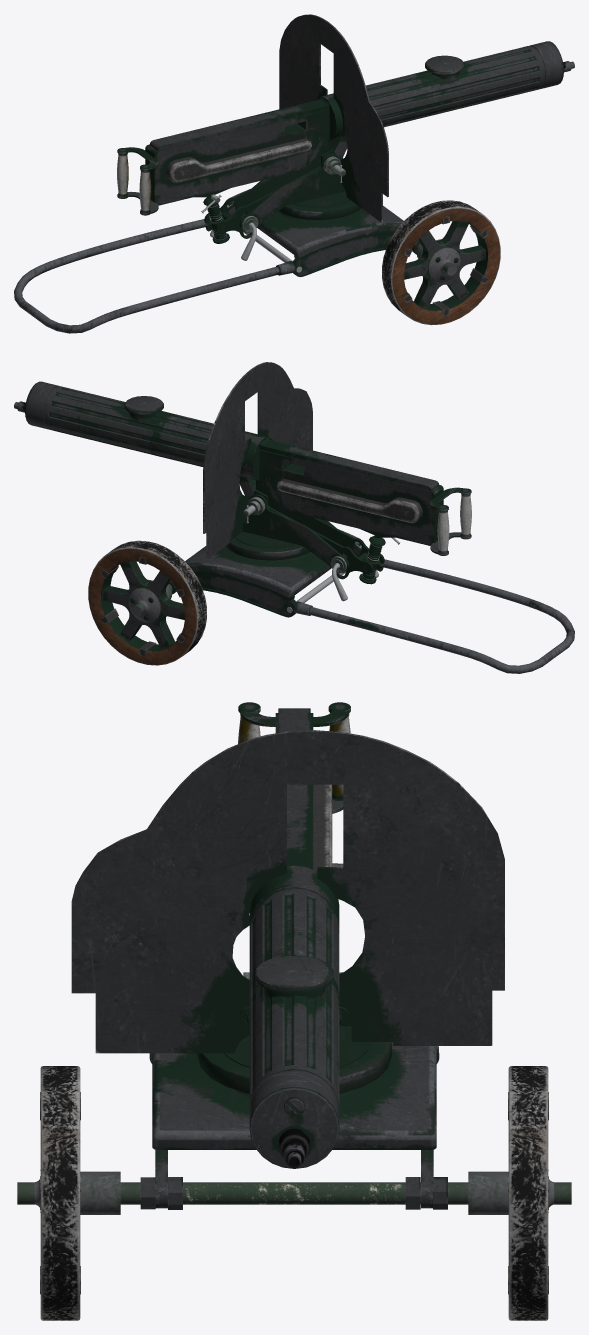
File: Maxim.FBX
The picture shows the model from 3 angles, top to bottom: view 1: azimuth 30°, elevation 25°; view 2: azimuth 150°, elevation 25°; view 3: azimuth 270°, elevation 25°; orthographic projection. The views are drawn at different scales.
Visible parts, largest first — view 1: Maxim; view 2: Maxim; view 3: Maxim.
Part boxes in pixels (box(x1,y1,x2,y2)): Maxim: box(14, 14, 574, 333); Maxim: box(14, 362, 574, 673); Maxim: box(17, 702, 571, 1320).
Bounding box in the file's own units: 62.5 × 29.11 × 27.67.
Materials: 1 (1 with a texture image).
